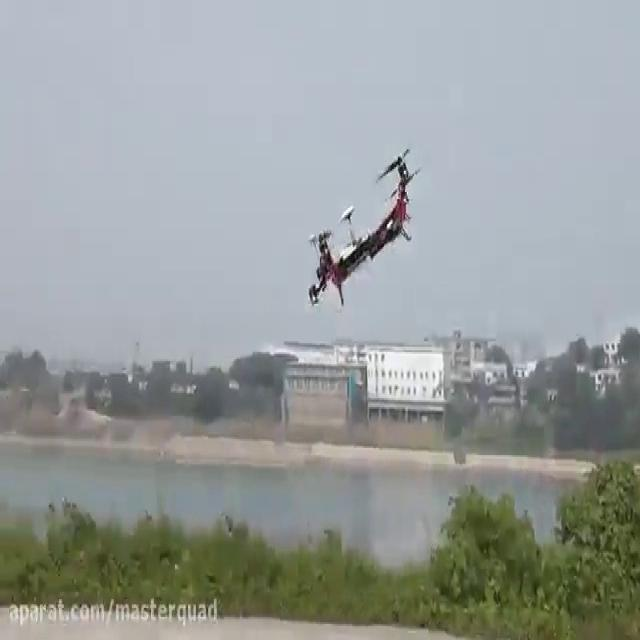drone: (304, 144, 421, 315)
